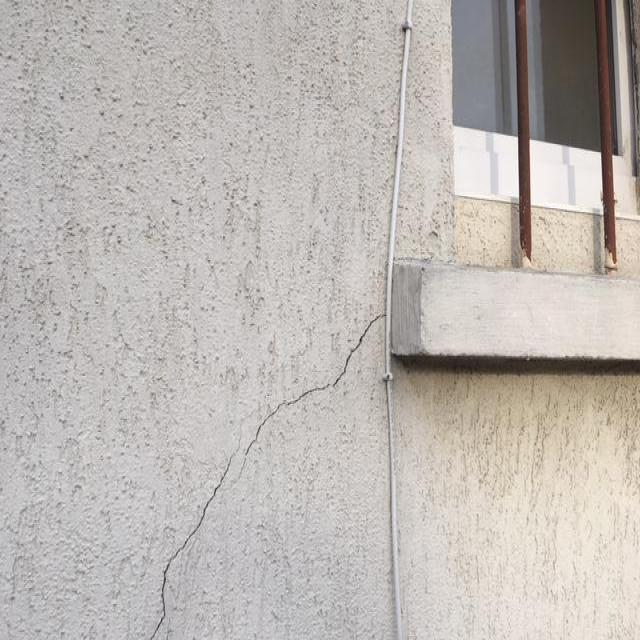crack: (236, 312, 389, 481), (150, 408, 257, 638)
